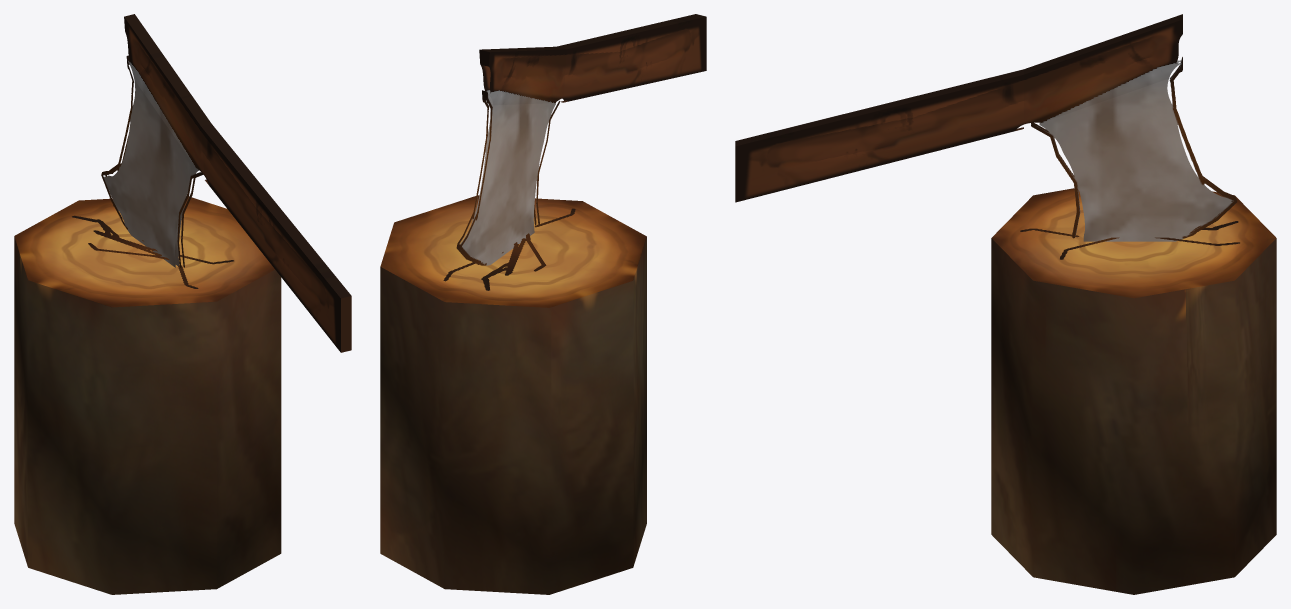
Rendered from axe.fbx.
3 views of the same model, side by side, from view 1: azimuth 30°, elevation 25°; view 2: azimuth 150°, elevation 25°; view 3: azimuth 270°, elevation 25° (orthographic). The views are drawn at different scales.
Visible parts, largest first — view 1: axe; view 2: axe; view 3: axe.
Part boxes in pixels (left/top/right/bottom): axe: left=14, top=14, right=351, bottom=594; axe: left=380, top=14, right=706, bottom=594; axe: left=735, top=14, right=1276, bottom=594.
Bounding box in the file's own units: 200 × 403 × 380.
